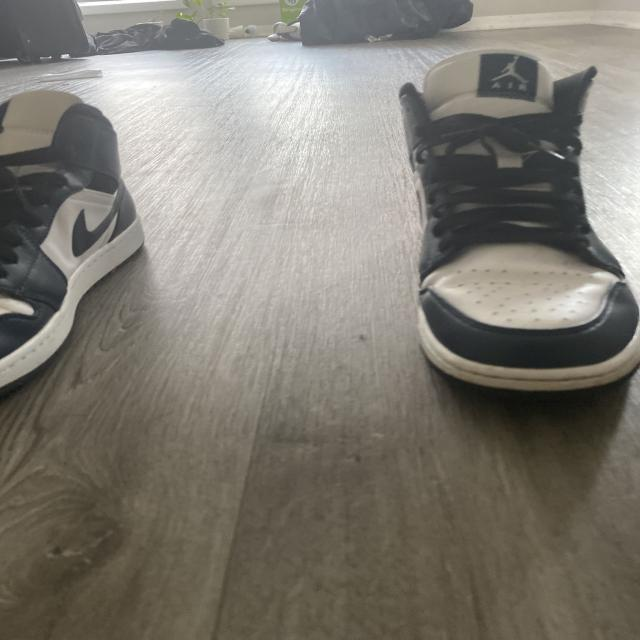shoe: (395, 48, 640, 396), (0, 87, 148, 390)
